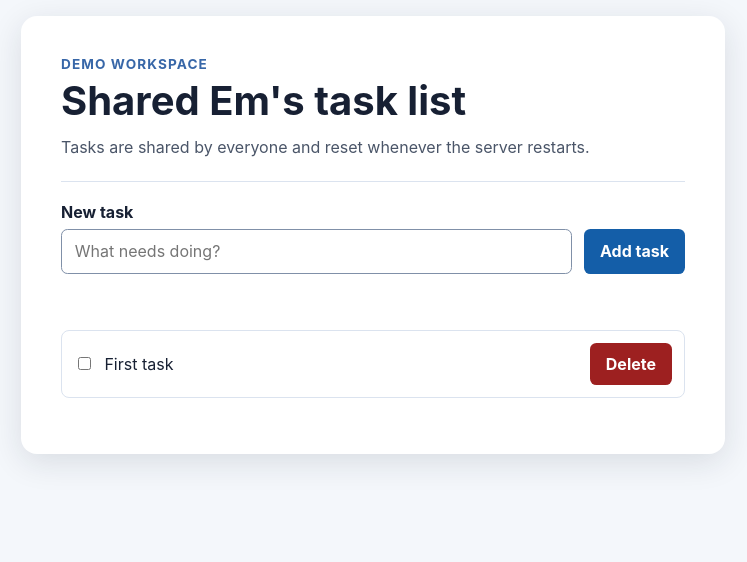
App › adds, toggles, and deletes only after successful requests
The image size is (747, 562).
Expected: the text "First task" is shown, [104,354,173,374]
Type "New task" into the field labelled "New task".
click(316, 251); type("New task")  # box [61,229,572,274]
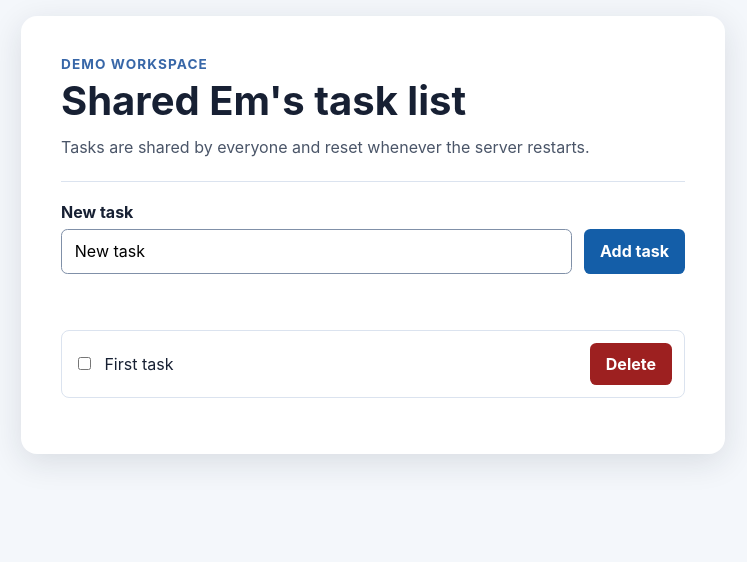
Click the button "Add task".
click(634, 251)  # box [584,229,685,274]
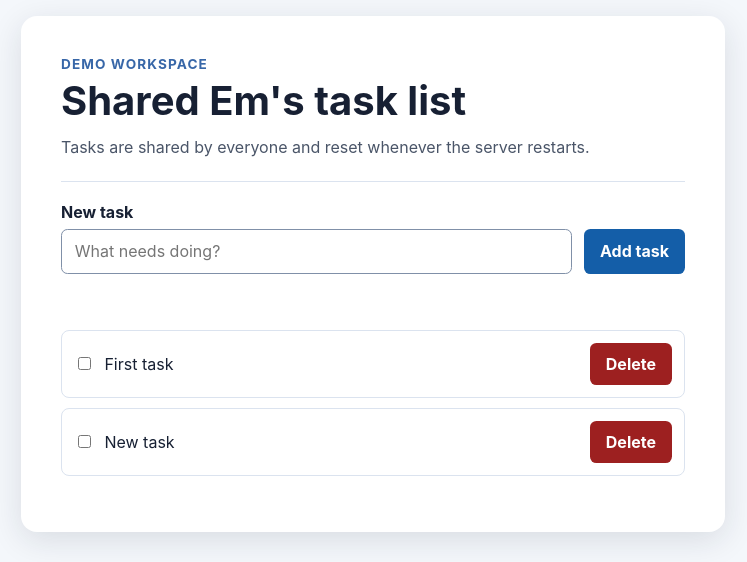
Result: the checkbox labelled "New task" is shown
Click the checkbox labelled "New task".
click(84, 442)  # box [78,435,91,448]
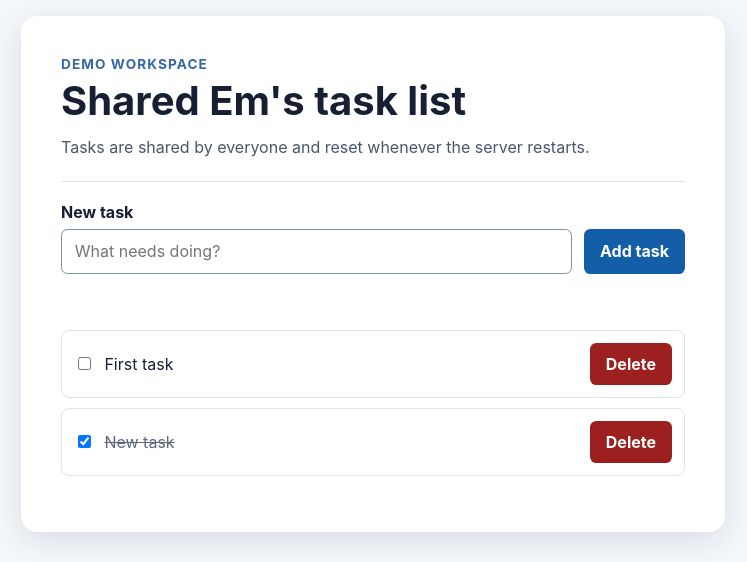
Result: the checkbox labelled "New task" is checked at [78,435,91,448]
Click the 2nd button "Delete".
click(631, 442)  # box [590,420,672,463]
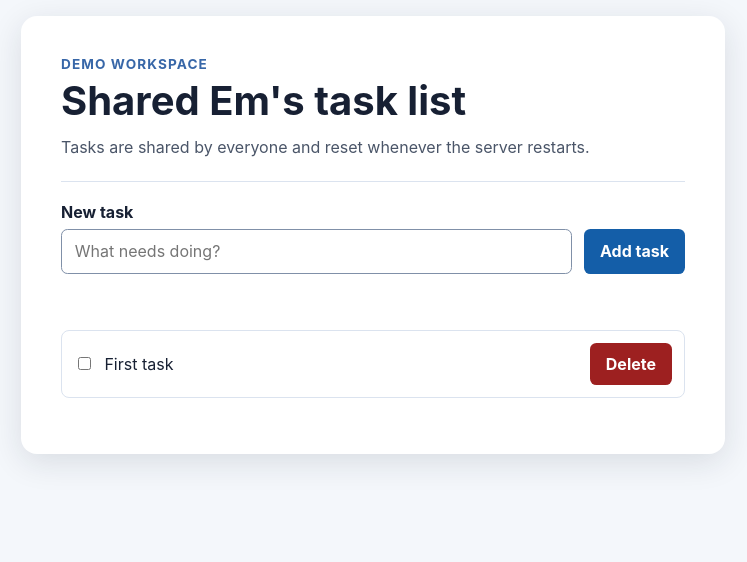
Result: the list item "New task Delete" is gone
